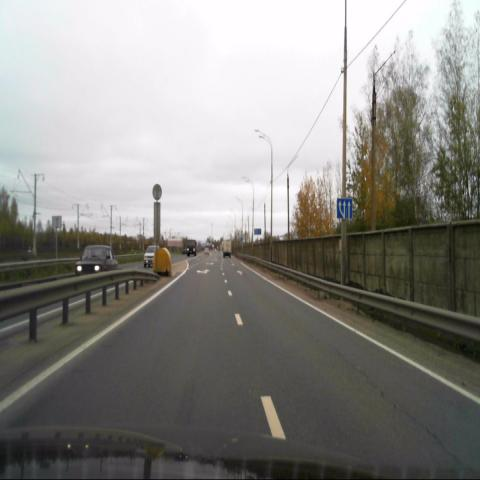5_15_2_2: (336, 198, 352, 220)
